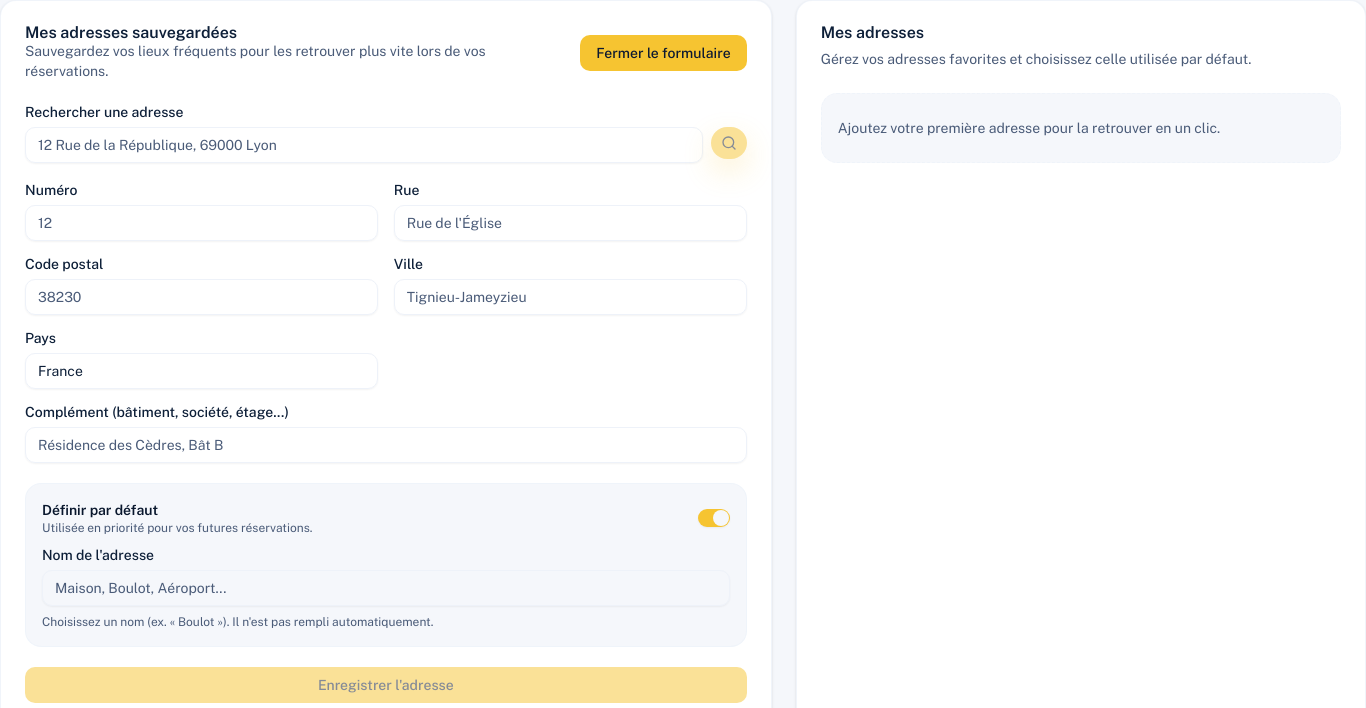
Scenario: UserAddressesManager flows › creates a new address after selecting a suggestion and filling label
The image size is (1366, 708).
Expected: the button "Fermer le formulaire" is shown, [580,35,747,71]
Type "89 rue du travail" into the field with placeholder "12 Rue de la République, 69000 Lyon" at (364, 145), box [25,127,703,163]
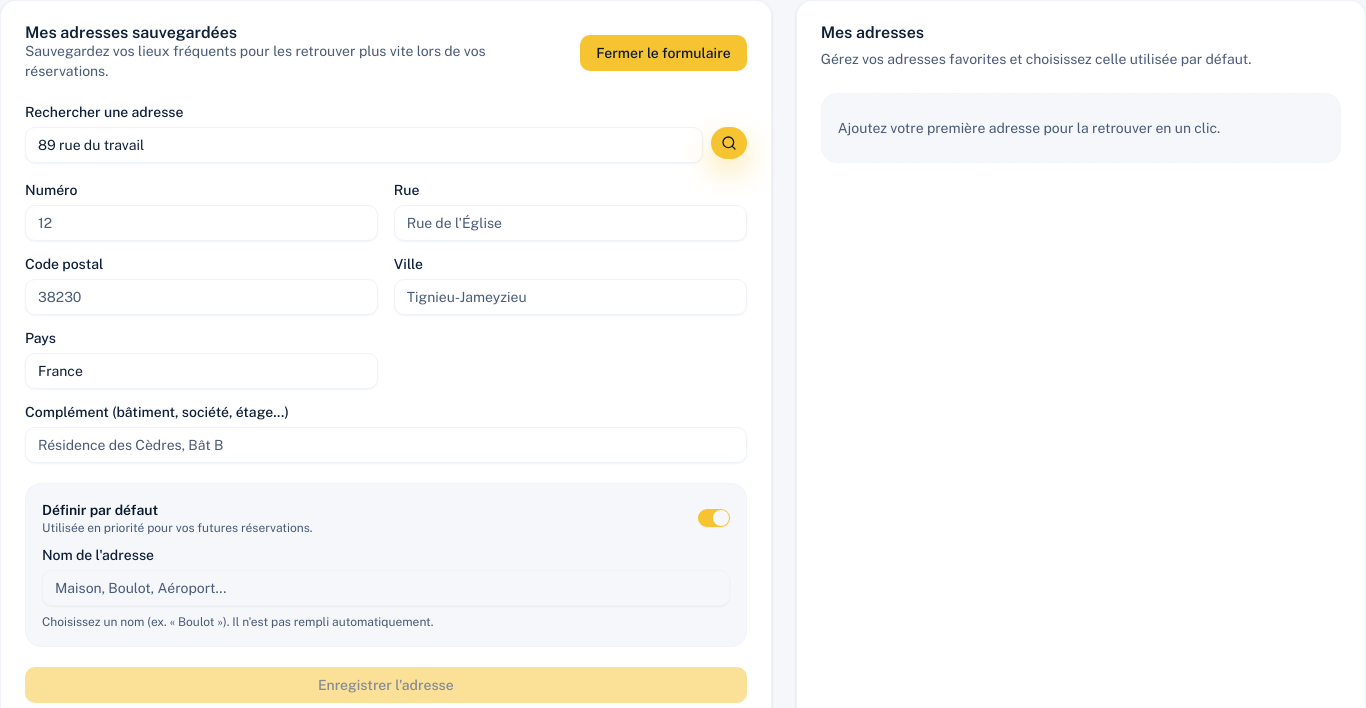
Click the button named "Rechercher" at (729, 143), box [711,127,747,159]
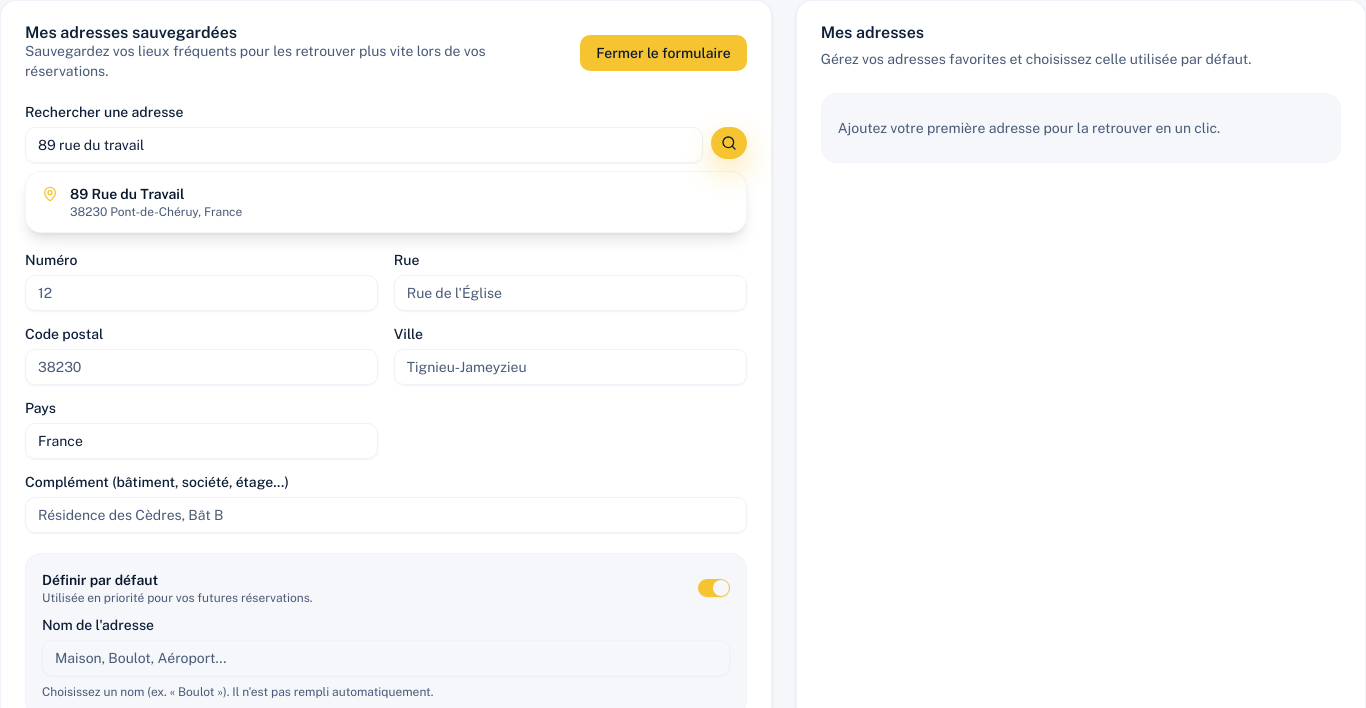
Expected: the button "89 Rue du Travail 38230 Pont-de-Chéruy, France" is shown
Click the button "89 Rue du Travail 38230 Pont-de-Chéruy, France" at (127, 194), box [26,172,746,232]
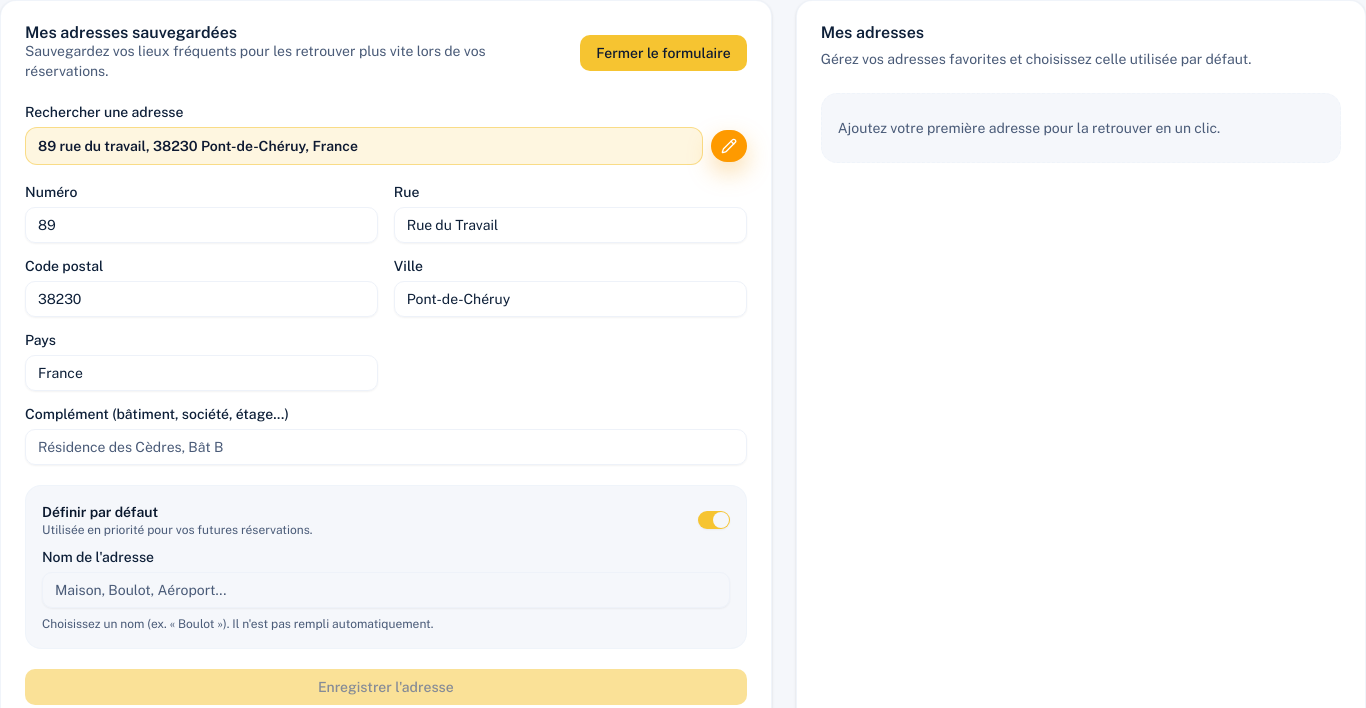
Type "Maison" into the field labelled "Nom de l'adresse" at (386, 590), box [42,572,730,608]
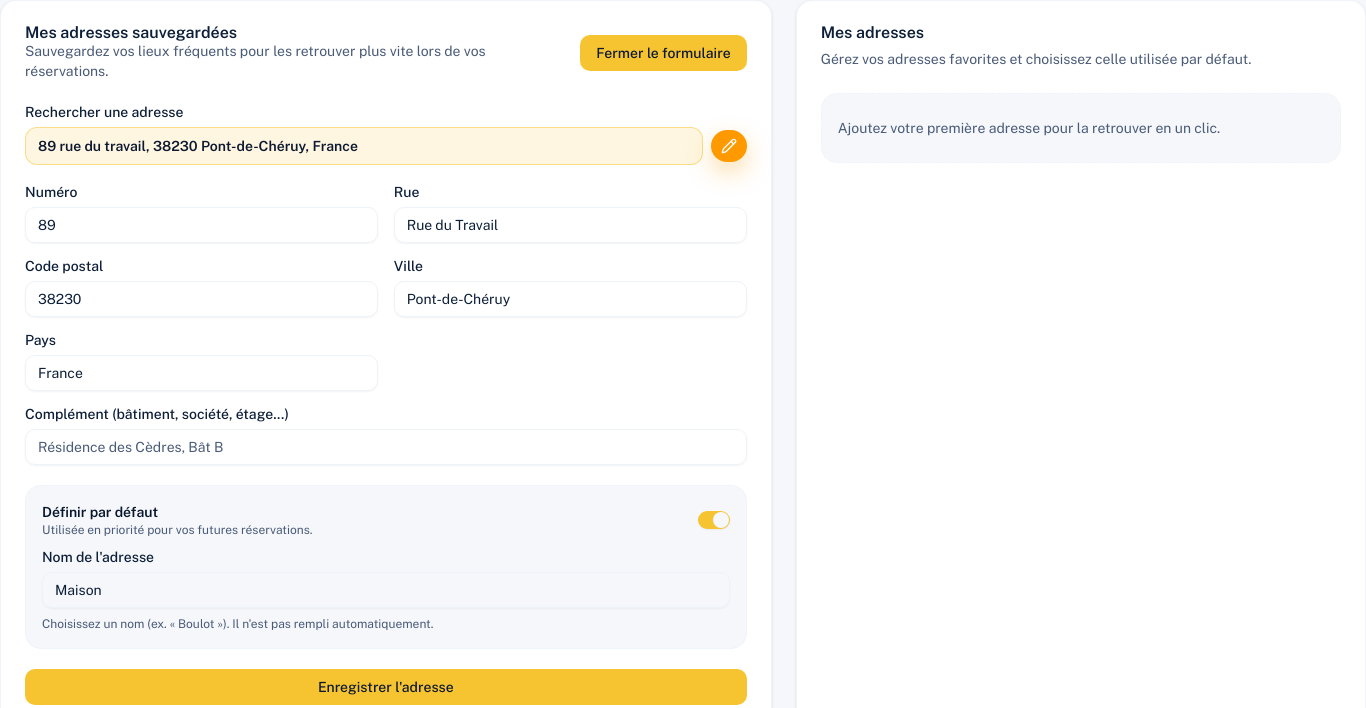
Expected: the button "Enregistrer l'adresse" is enabled
Click the button "Enregistrer l'adresse" at (386, 687), box [25,669,747,705]
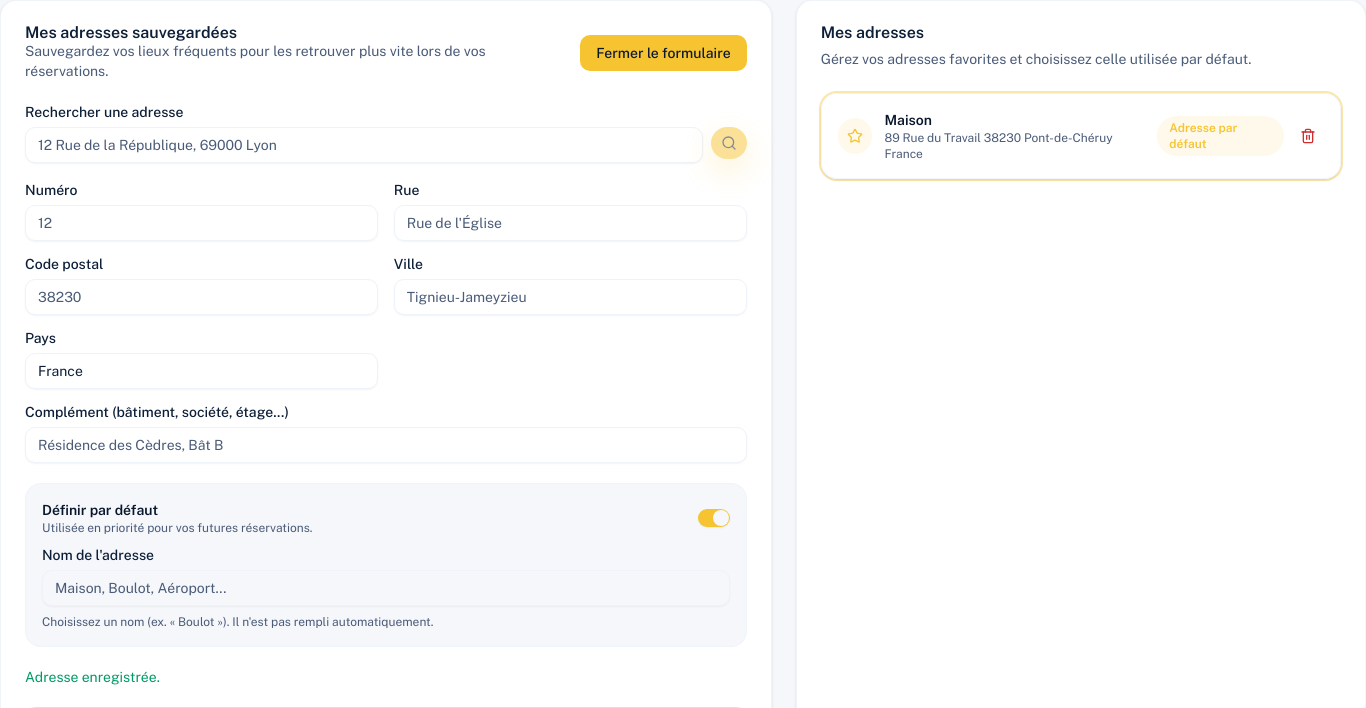
Expected: the text "Maison" is shown, [884,112,932,128]
# form reset + fermé
Click the button "Fermer le formulaire" at (663, 53), box [580,35,747,71]
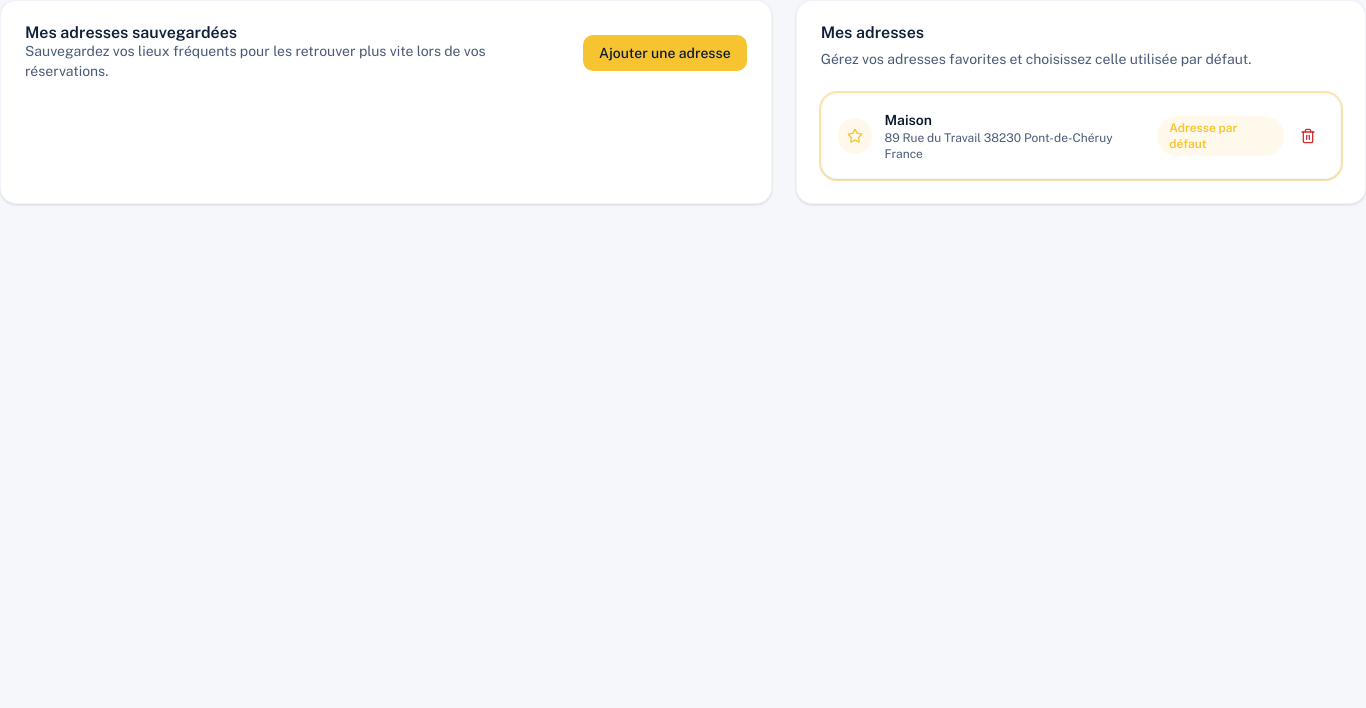
Expected: the field with placeholder "rue de la république" is not shown
Expected: the button "Ajouter une adresse" is shown, [583,35,747,71]
